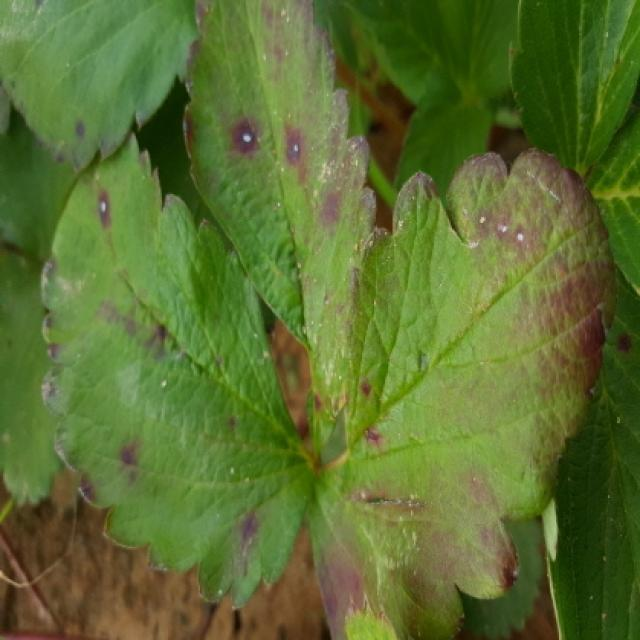Leaf Spot: (307, 146, 617, 638), (39, 126, 315, 607), (183, 0, 379, 356)
